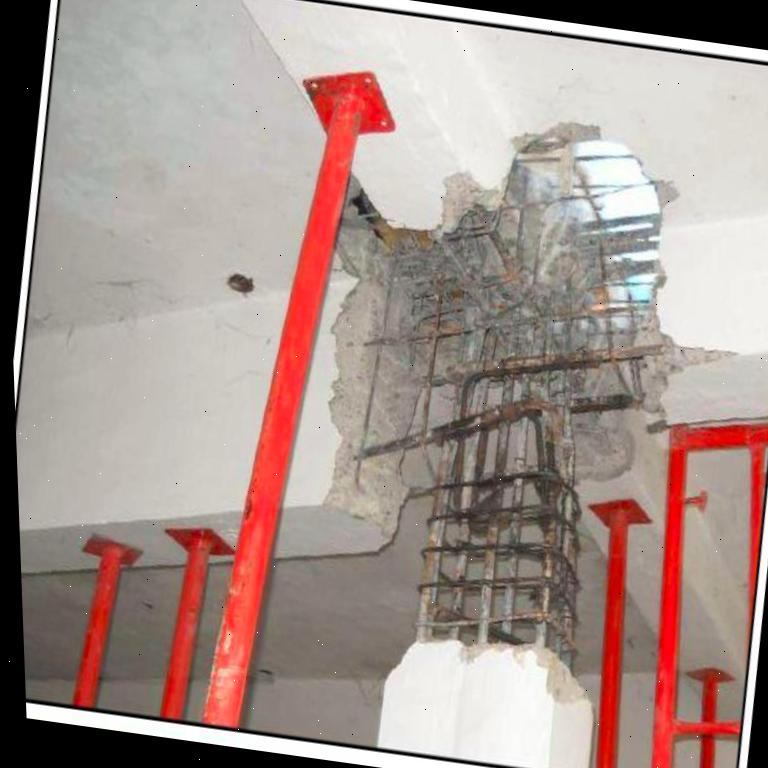spalling: (318, 118, 733, 707)
